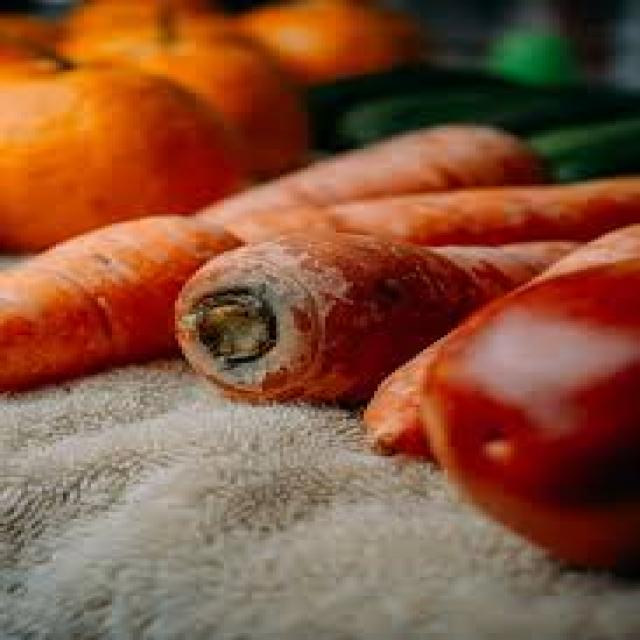Stale_Carrot: (175, 235, 574, 403), (0, 216, 240, 391)
